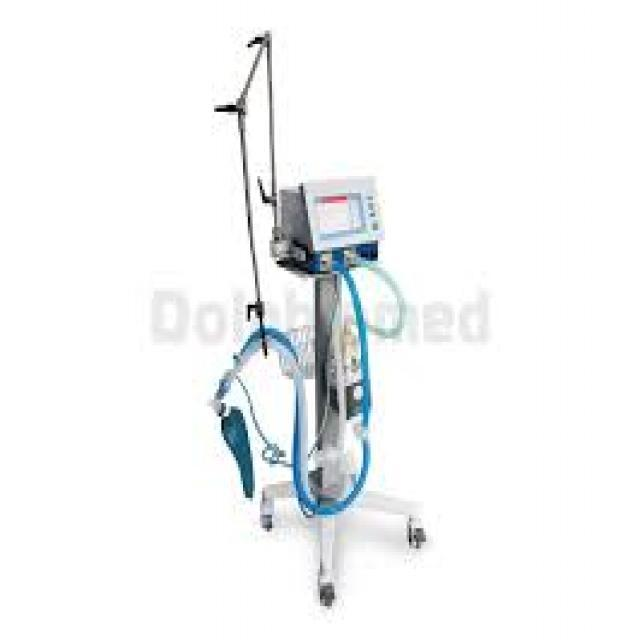ventilator: (210, 113, 437, 569)
